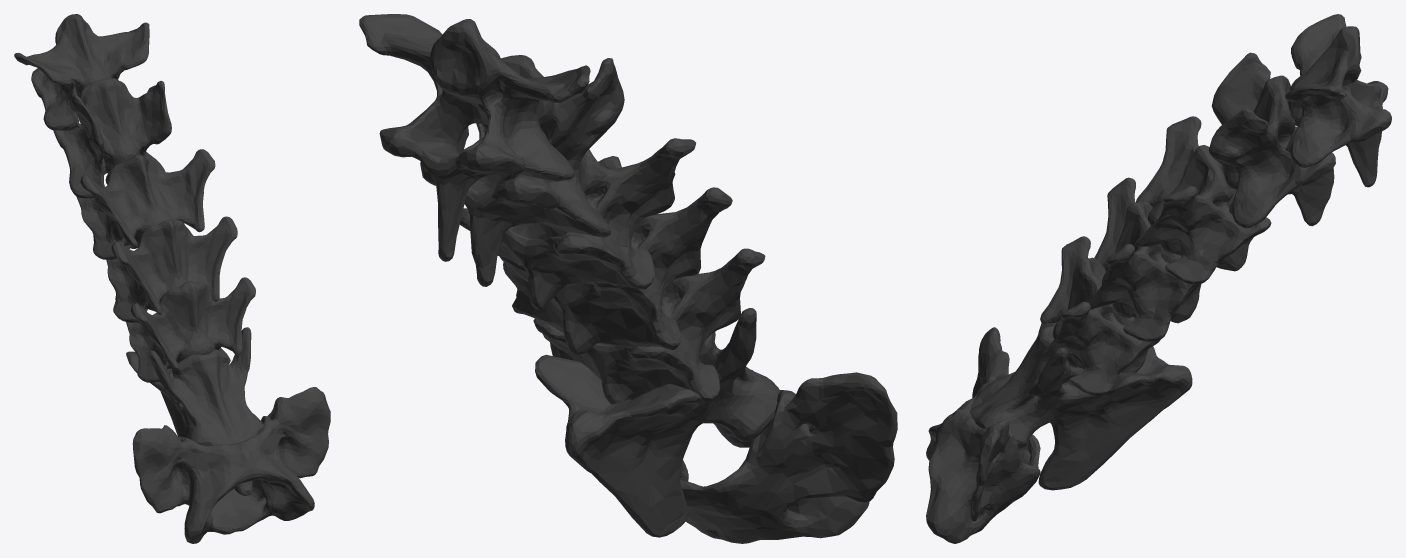
The model's file is b_cervical_vertebra.glb.
3 renders of one model, left to right at view 1: azimuth 30°, elevation 25°; view 2: azimuth 150°, elevation 25°; view 3: azimuth 270°, elevation 25°, orthographic. The views are drawn at different scales.
Parts seen in each view (by area): view 1: b_cervical_vertebra; view 2: b_cervical_vertebra; view 3: b_cervical_vertebra.
Boxes of the visible parts, box(x1,y1,x2,y2) form: b_cervical_vertebra: box(14, 14, 330, 543); b_cervical_vertebra: box(359, 14, 897, 543); b_cervical_vertebra: box(926, 14, 1391, 543).
Bounding box in the file's own units: 0.0226 × 0.0446 × 0.0383.
Materials: 1 (1 with a texture image).
